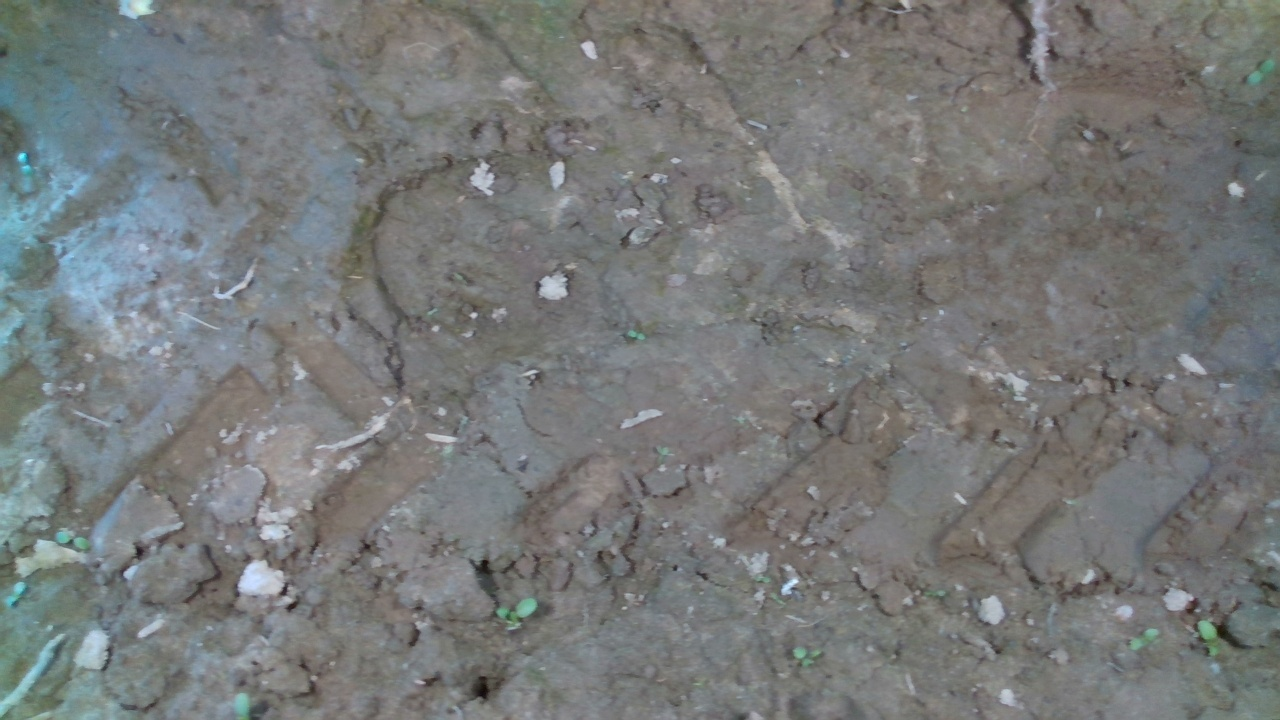weed: (1196, 618, 1221, 658), (1245, 58, 1275, 86), (1128, 626, 1161, 651), (2, 579, 27, 610), (54, 531, 94, 550), (15, 150, 34, 180)
